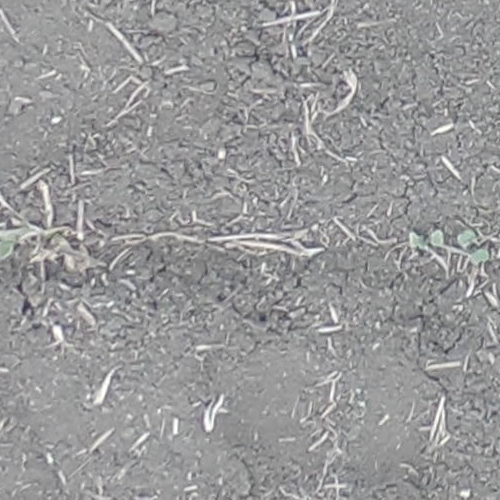isolated: (456, 227, 490, 265), (408, 229, 445, 252), (0, 228, 26, 258)
